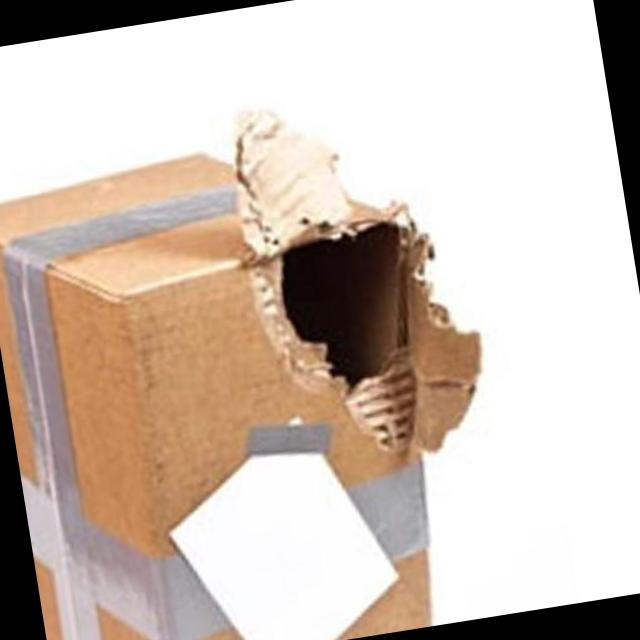box: (10, 116, 435, 638)
tear: (234, 108, 486, 456)
